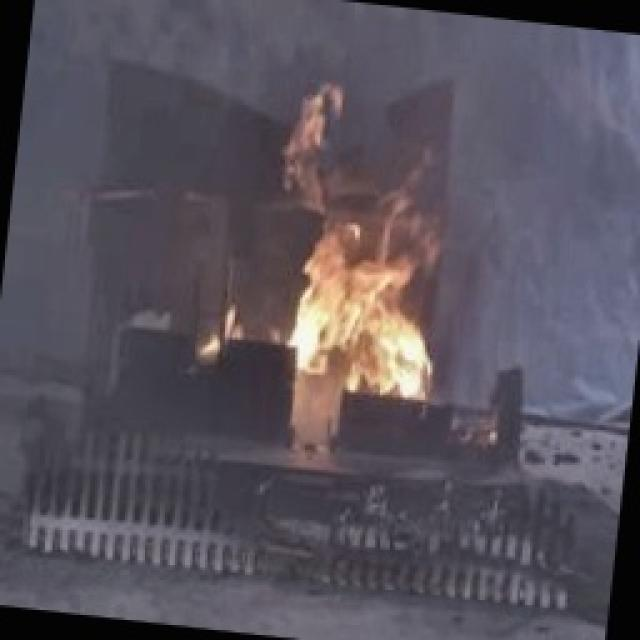fire: (256, 141, 472, 454)
